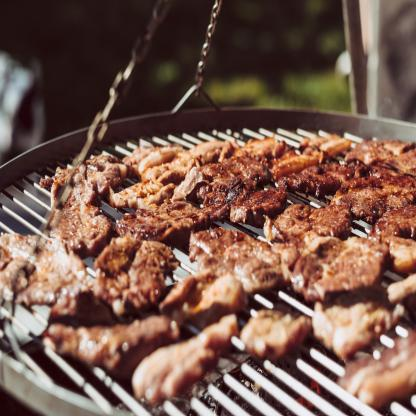Carne: (81, 228, 168, 315), (189, 220, 287, 289), (125, 188, 225, 248), (302, 235, 378, 309), (45, 184, 104, 252), (350, 169, 415, 215), (305, 192, 355, 248), (266, 198, 315, 252), (231, 182, 287, 226), (106, 172, 176, 207), (302, 158, 366, 190), (372, 202, 416, 239)
